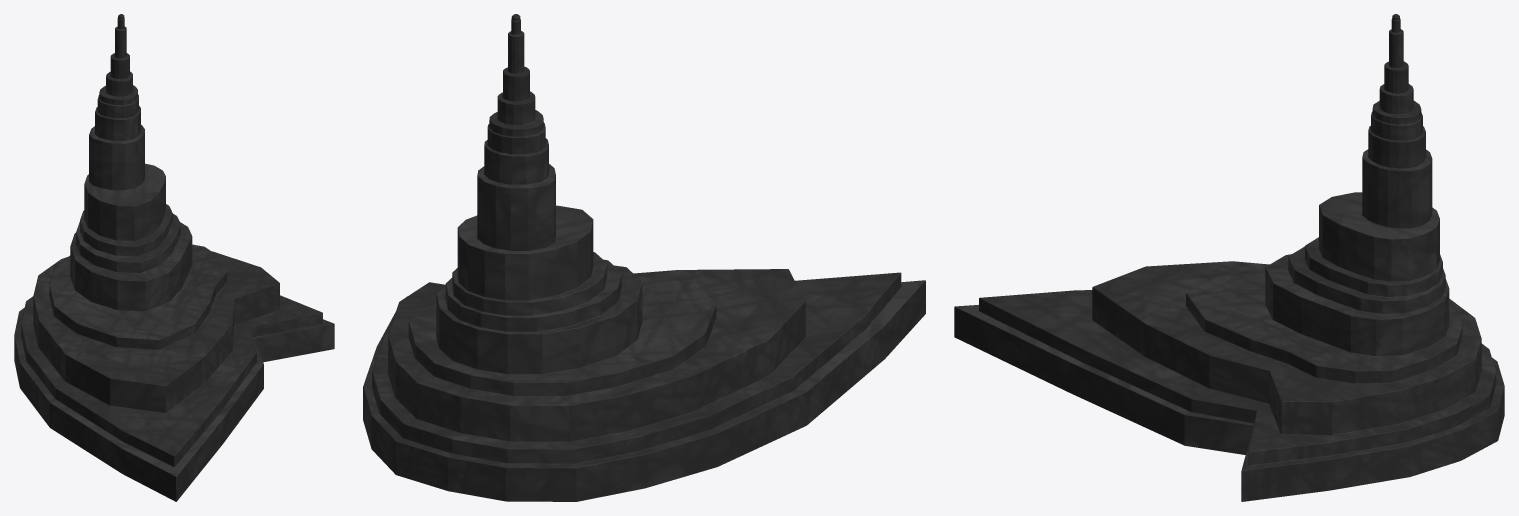
The model's file is Tutorial_canyonSpireFormation.fbx.
The picture shows the model from 3 angles, left to right: view 1: azimuth 30°, elevation 25°; view 2: azimuth 150°, elevation 25°; view 3: azimuth 270°, elevation 25°; orthographic projection. The views are drawn at different scales.
Visible parts, largest first — view 1: canyonSpireFormation; view 2: canyonSpireFormation; view 3: canyonSpireFormation.
Boxes of the visible parts, box(x1,y1,x2,y2) form: canyonSpireFormation: box(14, 14, 334, 501); canyonSpireFormation: box(363, 14, 925, 501); canyonSpireFormation: box(954, 14, 1504, 501).
Size of the model in its own units: 24.2 by 25.49 by 31.97.
Materials: 1 (1 with a texture image).
